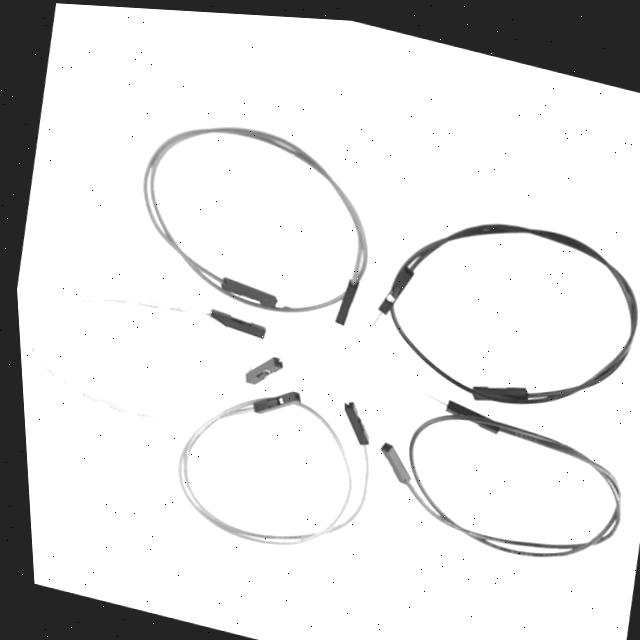Jumper Wires: (14, 67, 640, 637)
